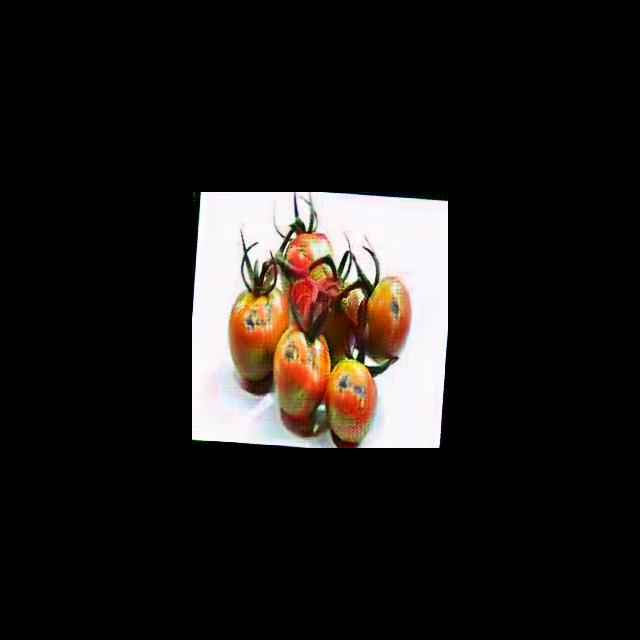tomato: (232, 287, 290, 382), (275, 328, 331, 422), (325, 362, 378, 441), (362, 276, 414, 356)
